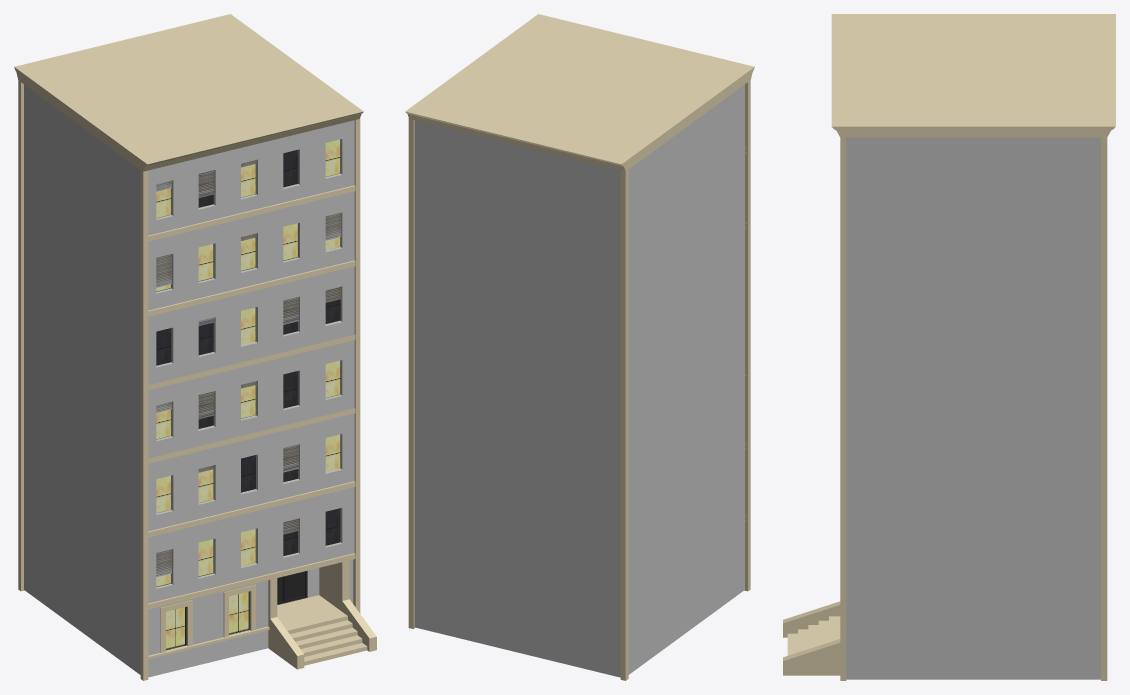
The model's file is Bloc_028F.fbx.
3 renders of one model, left to right at view 1: azimuth 30°, elevation 25°; view 2: azimuth 150°, elevation 25°; view 3: azimuth 270°, elevation 25°, orthographic. The views are drawn at different scales.
Visible parts, largest first — view 1: Bloc_28F; view 2: Bloc_28F; view 3: Bloc_28F.
Boxes of the visible parts, x1,y1,x2,y2 form: Bloc_28F: [14, 14, 376, 680]; Bloc_28F: [405, 14, 754, 680]; Bloc_28F: [783, 14, 1115, 680].
Bounding box in the file's own units: 1150 × 2112 × 923.
